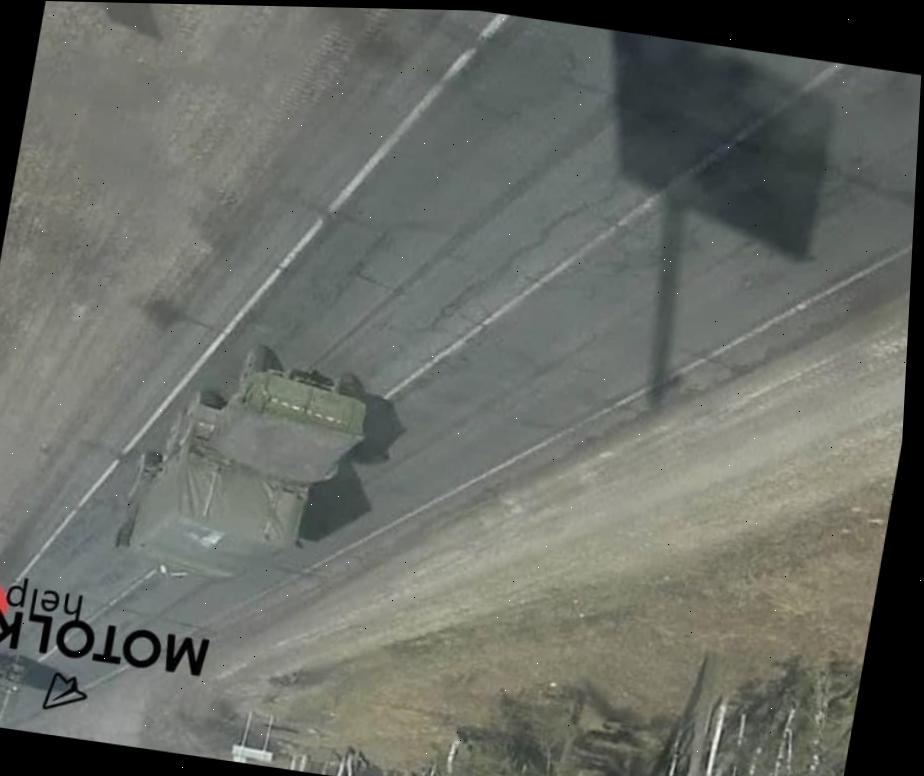truck: (114, 332, 367, 593), (0, 637, 32, 730)
